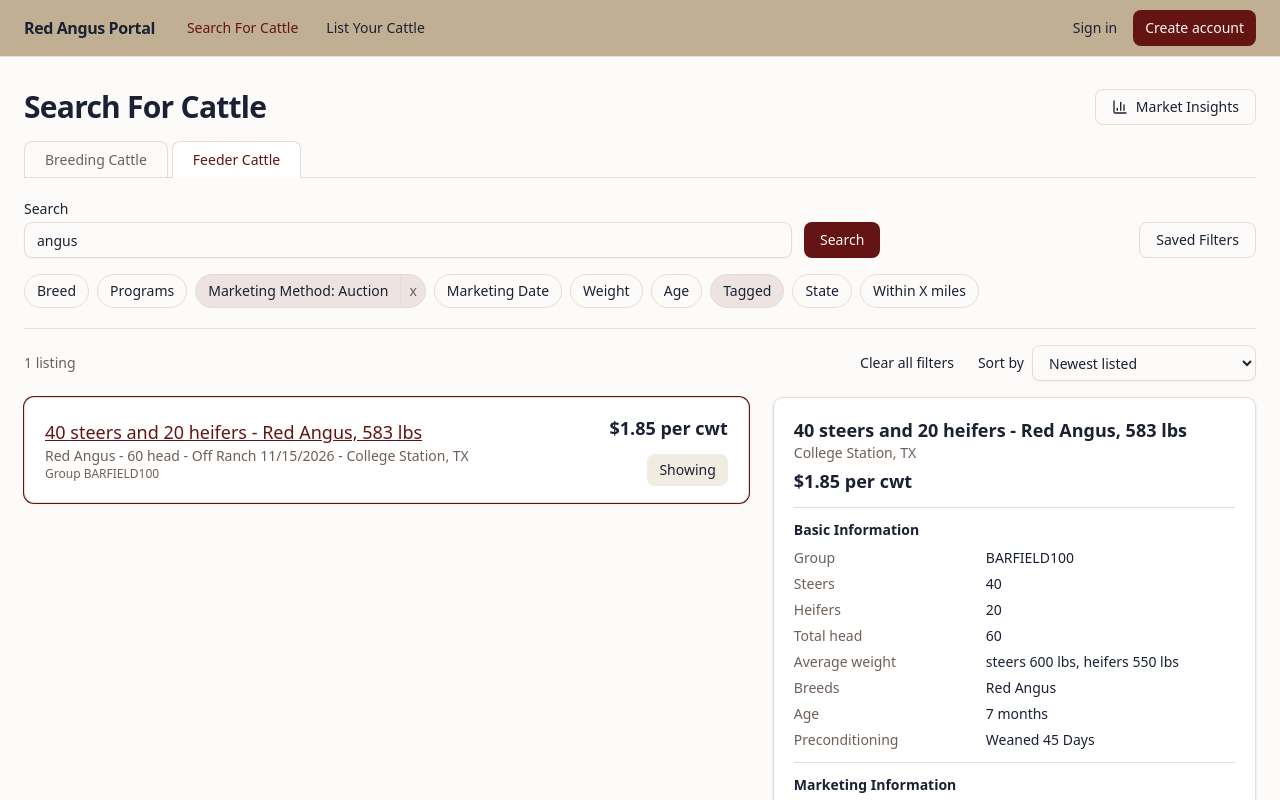
filter chips › starts from the address, and Clear all filters empties it
The width and height of the screenshot is (1280, 800).
Expected: the button "Marketing Method: Auction" is shown, [196, 275, 400, 307]
Click the button "Clear all filters" at (907, 363), box [848, 347, 966, 379]
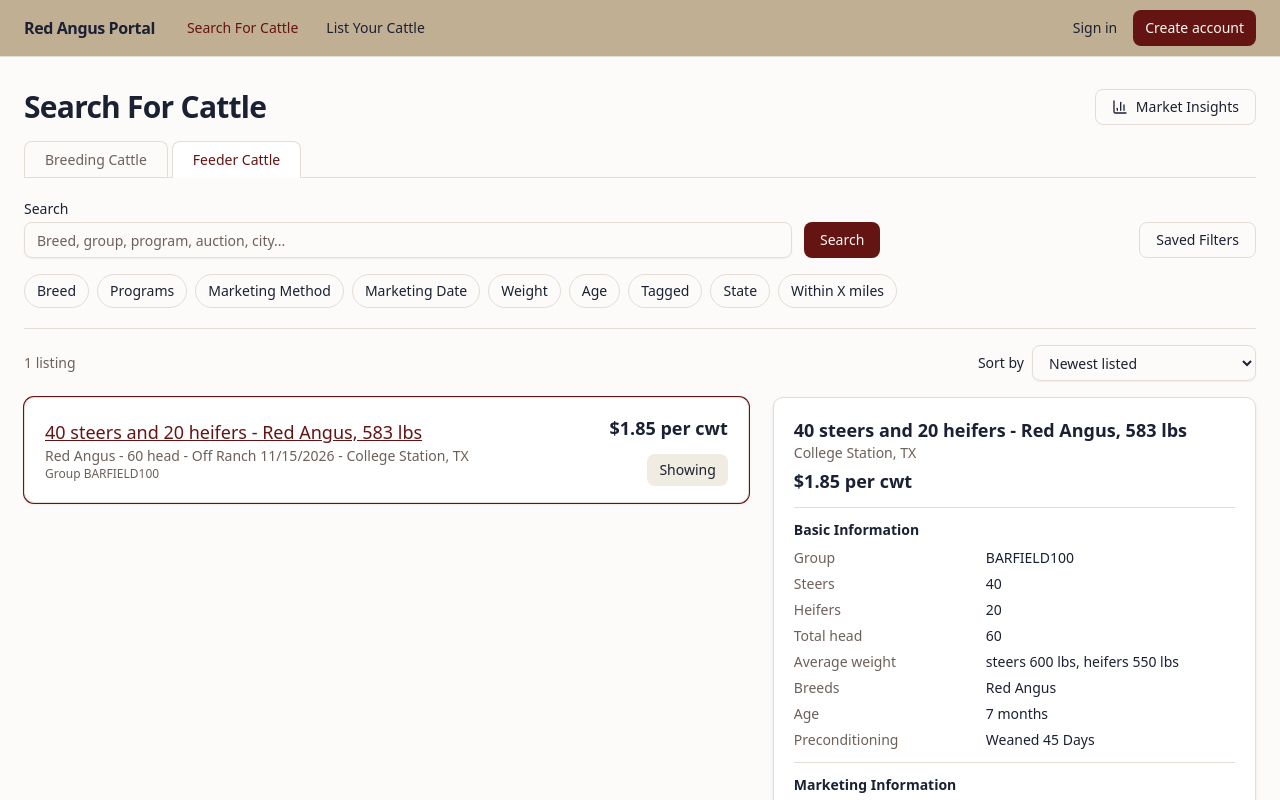
Result: the field labelled "Search" is empty at [24, 222, 792, 258]
